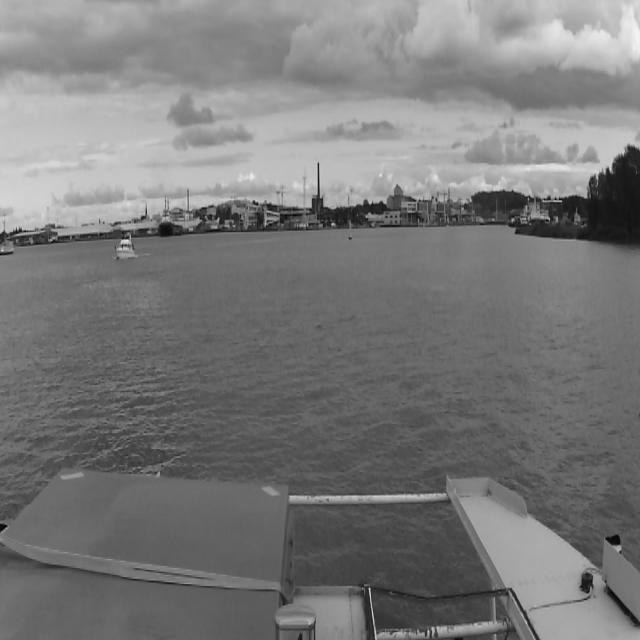buoy: (348, 220, 352, 240)
ship: (165, 207, 201, 230), (115, 231, 137, 261), (158, 198, 174, 236)
